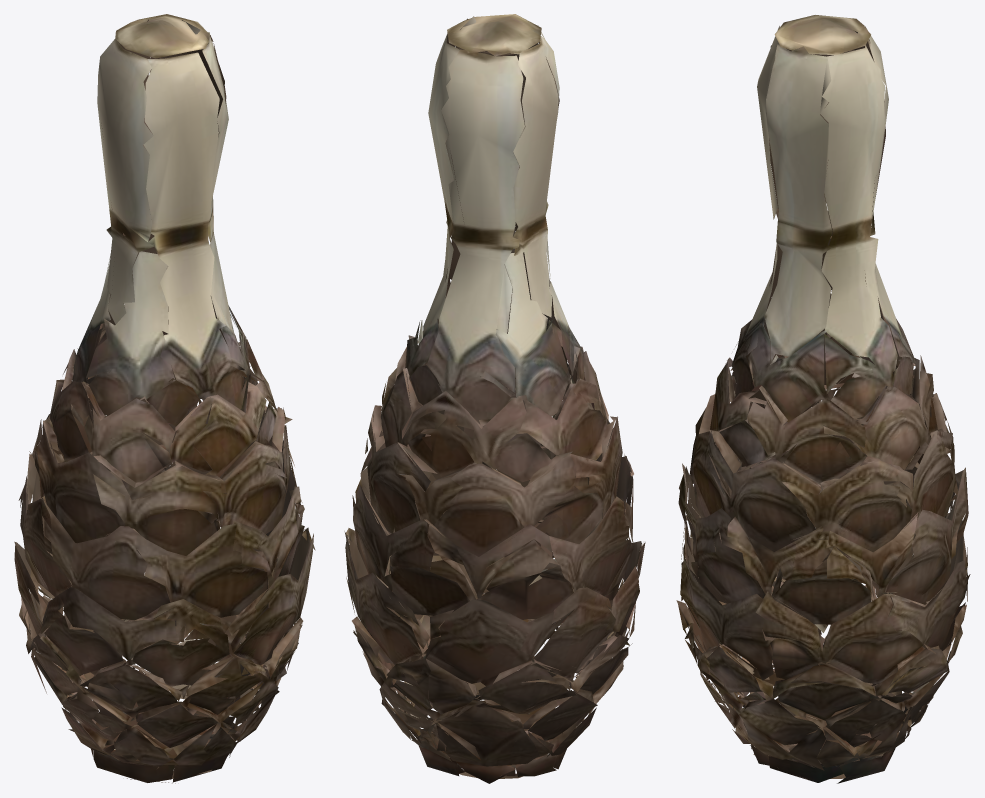
Rendered from bowling-pin.glb.
The picture shows the model from 3 angles, left to right: view 1: azimuth 30°, elevation 25°; view 2: azimuth 150°, elevation 25°; view 3: azimuth 270°, elevation 25°; orthographic projection.
Parts seen in each view (by area): view 1: geometry_0; view 2: geometry_0; view 3: geometry_0.
Boxes of the visible parts, x1=… form: geometry_0: x1=14, y1=14, x2=315, y2=783; geometry_0: x1=344, y1=14, x2=645, y2=783; geometry_0: x1=676, y1=15, x2=970, y2=783.
Size of the model in its own units: 0.1162 by 0.322 by 0.1175.
Materials: 1 (1 with a texture image).
